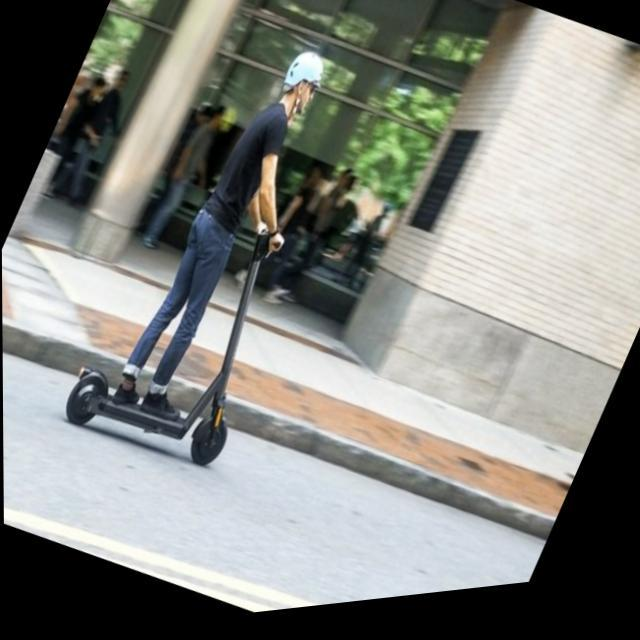Helmet: (268, 39, 332, 128)
